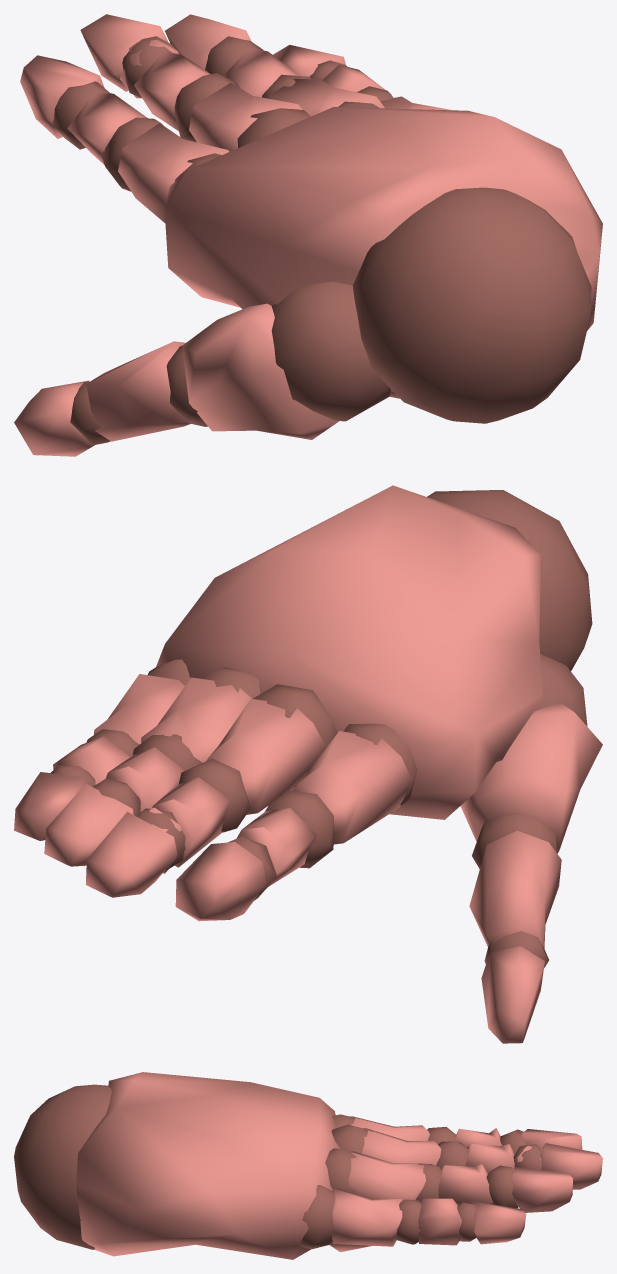
Rendered from mixamo-y-xr-right-hand.glb.
3 renders of one model, top to bottom at view 1: azimuth 30°, elevation 25°; view 2: azimuth 150°, elevation 25°; view 3: azimuth 270°, elevation 25°, orthographic. The views are drawn at different scales.
Parts seen in each view (by area): view 1: right_hand; view 2: right_hand; view 3: right_hand.
Boxes of the visible parts, left/top/right/bottom form: right_hand: left=14, top=14, right=602, bottom=456; right_hand: left=14, top=485, right=602, bottom=1043; right_hand: left=14, top=1072, right=602, bottom=1259.
Size of the model in its own units: 0.1279 by 0.0985 by 0.2184.
